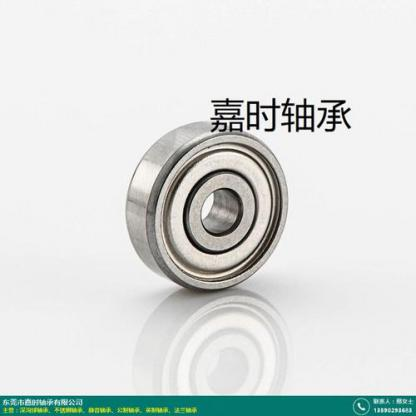FOD: (120, 116, 293, 298)
